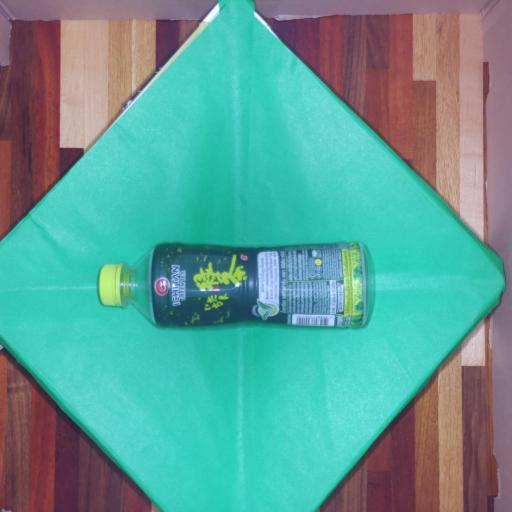bottle: (85, 228, 387, 344)
